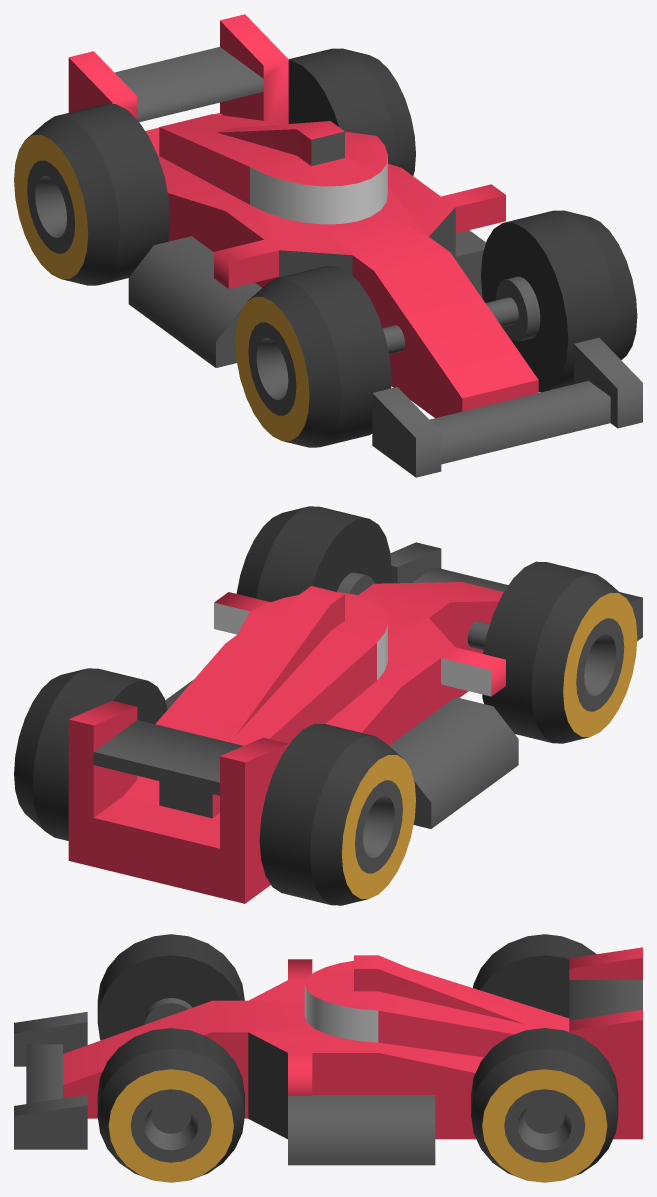
File: race.obj
The picture shows the model from 3 angles, top to bottom: view 1: azimuth 30°, elevation 25°; view 2: azimuth 150°, elevation 25°; view 3: azimuth 270°, elevation 25°; orthographic projection. The views are drawn at different scales.
Parts seen in each view (by area): view 1: body, wheel_frontRight, wheel_backRight, wheel_frontLeft, wheel_backLeft; view 2: body, wheel_backRight, wheel_frontRight, wheel_backLeft, wheel_frontLeft; view 3: body, wheel_backLeft, wheel_frontLeft, wheel_frontRight, wheel_backRight.
Boxes of the visible parts, x1,y1,x2,y2 form: body: [68, 14, 642, 477]; wheel_frontRight: [235, 266, 391, 447]; wheel_backRight: [14, 104, 170, 285]; wheel_frontLeft: [481, 210, 637, 392]; wheel_backLeft: [288, 48, 415, 175]; body: [68, 542, 642, 903]; wheel_backRight: [259, 723, 415, 905]; wheel_frontRight: [482, 561, 637, 743]; wheel_backLeft: [14, 668, 167, 840]; wheel_frontLeft: [236, 506, 391, 602]; body: [14, 947, 642, 1165]; wheel_backLeft: [471, 1028, 618, 1182]; wheel_frontLeft: [97, 1028, 244, 1182]; wheel_frontRight: [97, 934, 244, 1040]; wheel_backRight: [473, 934, 596, 1018].
Size of the model in its own units: 1.3 by 0.7325 by 2.56.
